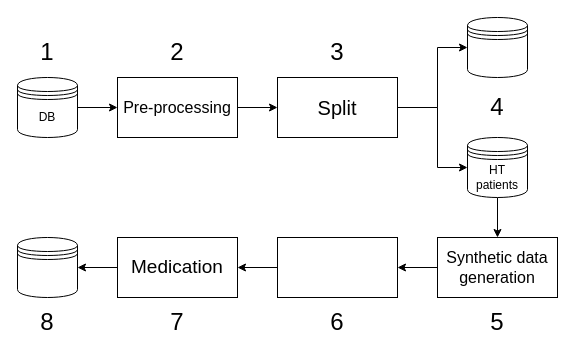
The diagram is 575 pixels wide and 355 high, and some of its shapes have lost their labels. The centre of each missing label's shape, as x and y in pixels:
non-HT patients: the point at 497,47
Post-processing: the point at 337,267
Synthethic patients: the point at 47,267
